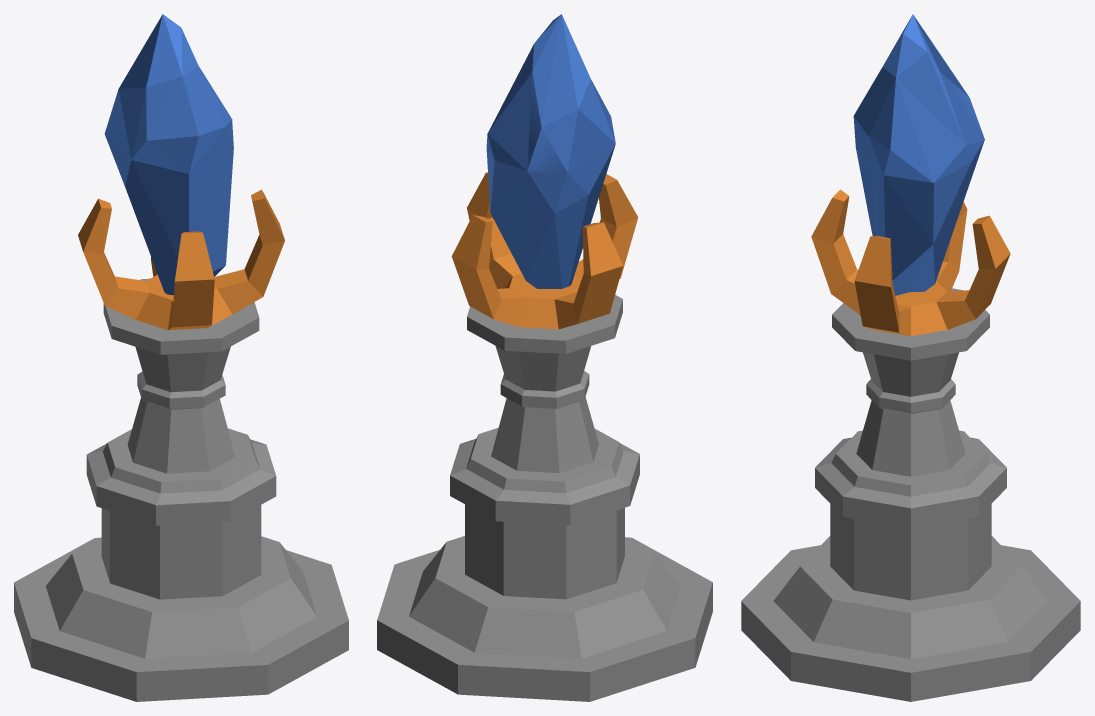
The model's file is Dev_Prop_Pillar_cystal.fbx.
3 renders of one model, left to right at view 1: azimuth 30°, elevation 25°; view 2: azimuth 150°, elevation 25°; view 3: azimuth 270°, elevation 25°, orthographic. The views are drawn at different scales.
Visible parts, largest first — view 1: Prop_Pillar_cystal; view 2: Prop_Pillar_cystal; view 3: Prop_Pillar_cystal.
Part boxes in pixels (x1,y1,x2,y2): Prop_Pillar_cystal: (14, 14, 348, 701); Prop_Pillar_cystal: (377, 14, 712, 701); Prop_Pillar_cystal: (741, 14, 1080, 701).
Bounding box in the file's own units: 84.96 × 168 × 84.96.
